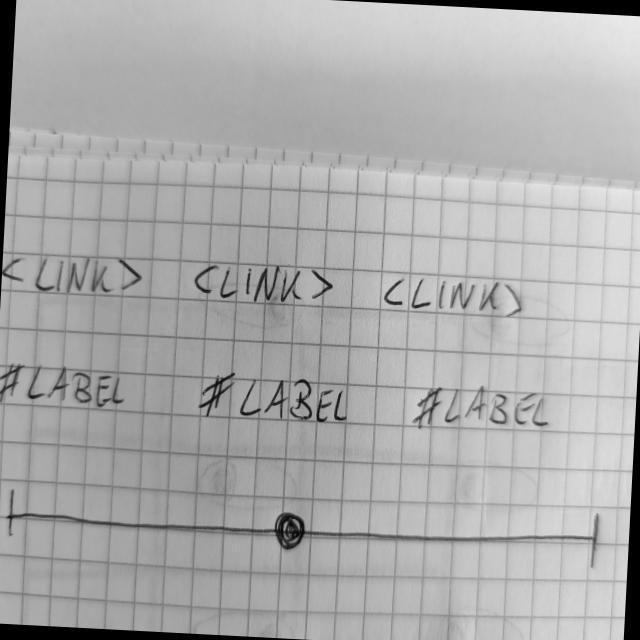label: (194, 366, 355, 432), (411, 379, 561, 440), (1, 355, 135, 413)
link: (379, 269, 530, 324), (2, 247, 147, 303), (190, 255, 340, 309)
slider: (7, 475, 607, 573)
